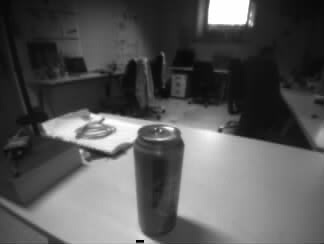Tin can: (133, 123, 184, 237)
